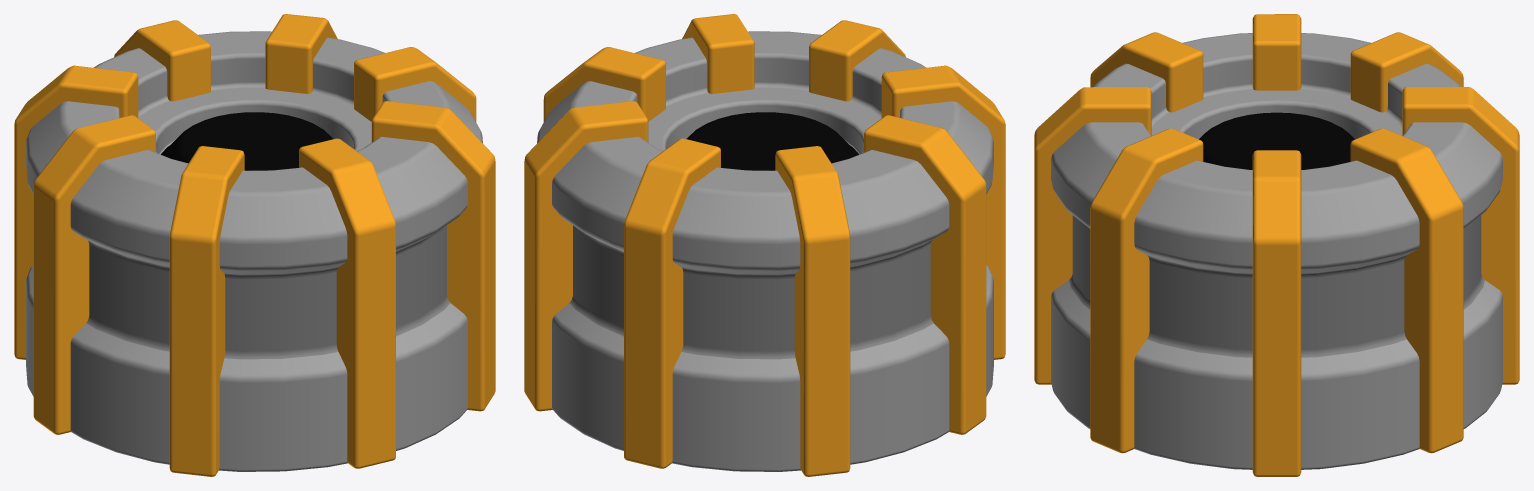
The model's file is Hover Pad.fbx.
3 renders of one model, left to right at view 1: azimuth 30°, elevation 25°; view 2: azimuth 150°, elevation 25°; view 3: azimuth 270°, elevation 25°, orthographic.
Parts seen in each view (by area): view 1: Circle; view 2: Circle; view 3: Circle.
Part boxes in pixels (bbox=[...]): Circle: bbox=[14, 14, 495, 476]; Circle: bbox=[524, 14, 1005, 476]; Circle: bbox=[1034, 14, 1519, 476].
Bounding box in the file's own units: 157 × 100 × 157.
